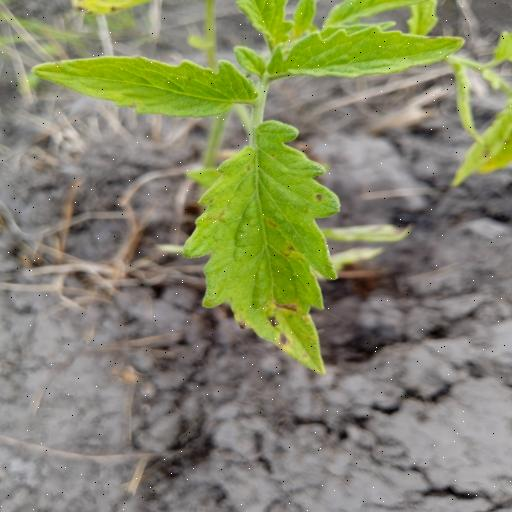Tomato_Brown_Spots: (191, 118, 341, 378), (25, 54, 264, 120), (261, 28, 471, 84)
